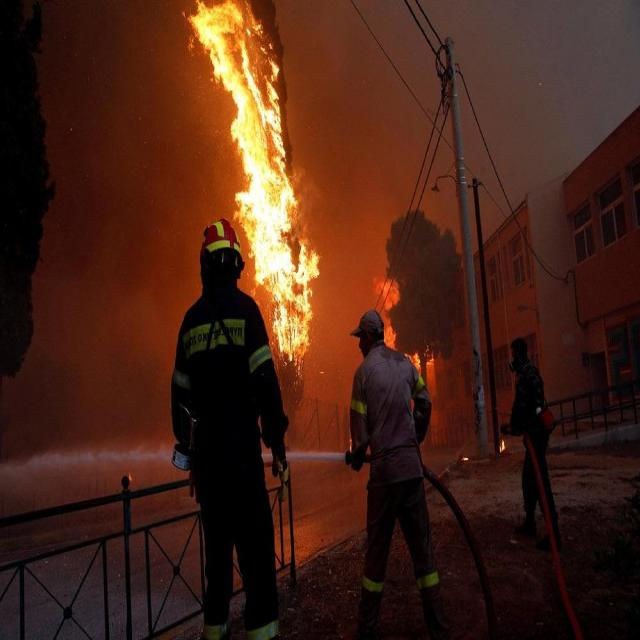fire: (183, 3, 325, 415)
